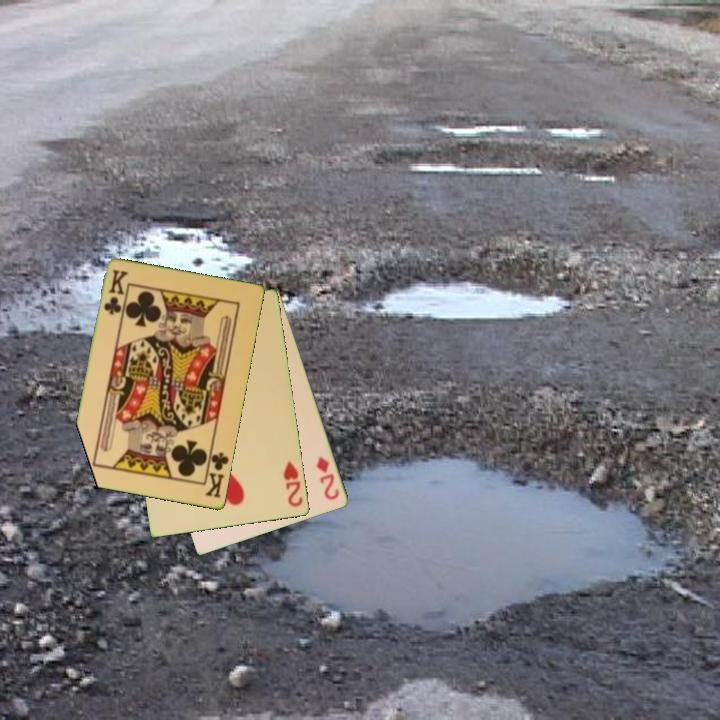2d: (313, 454, 343, 503)
2h: (280, 458, 306, 510)
Kc: (202, 445, 232, 501), (101, 266, 131, 318)
